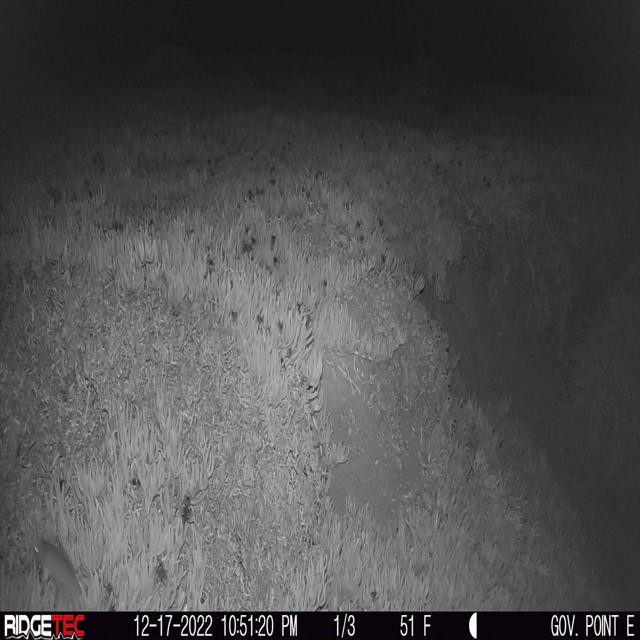rodent: (33, 537, 86, 610)
